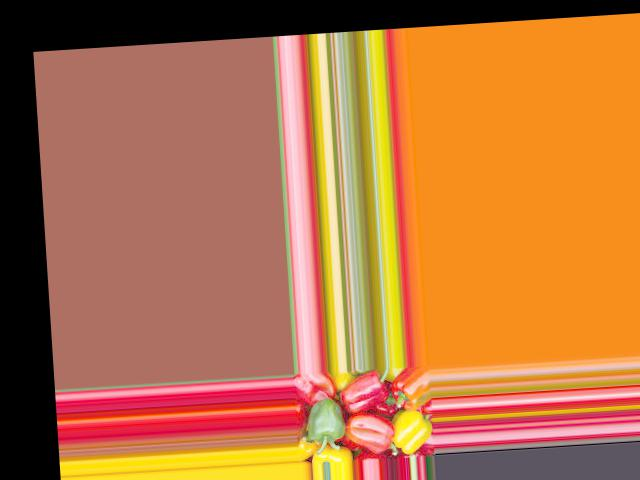bell_pepper: (388, 405, 433, 457)
